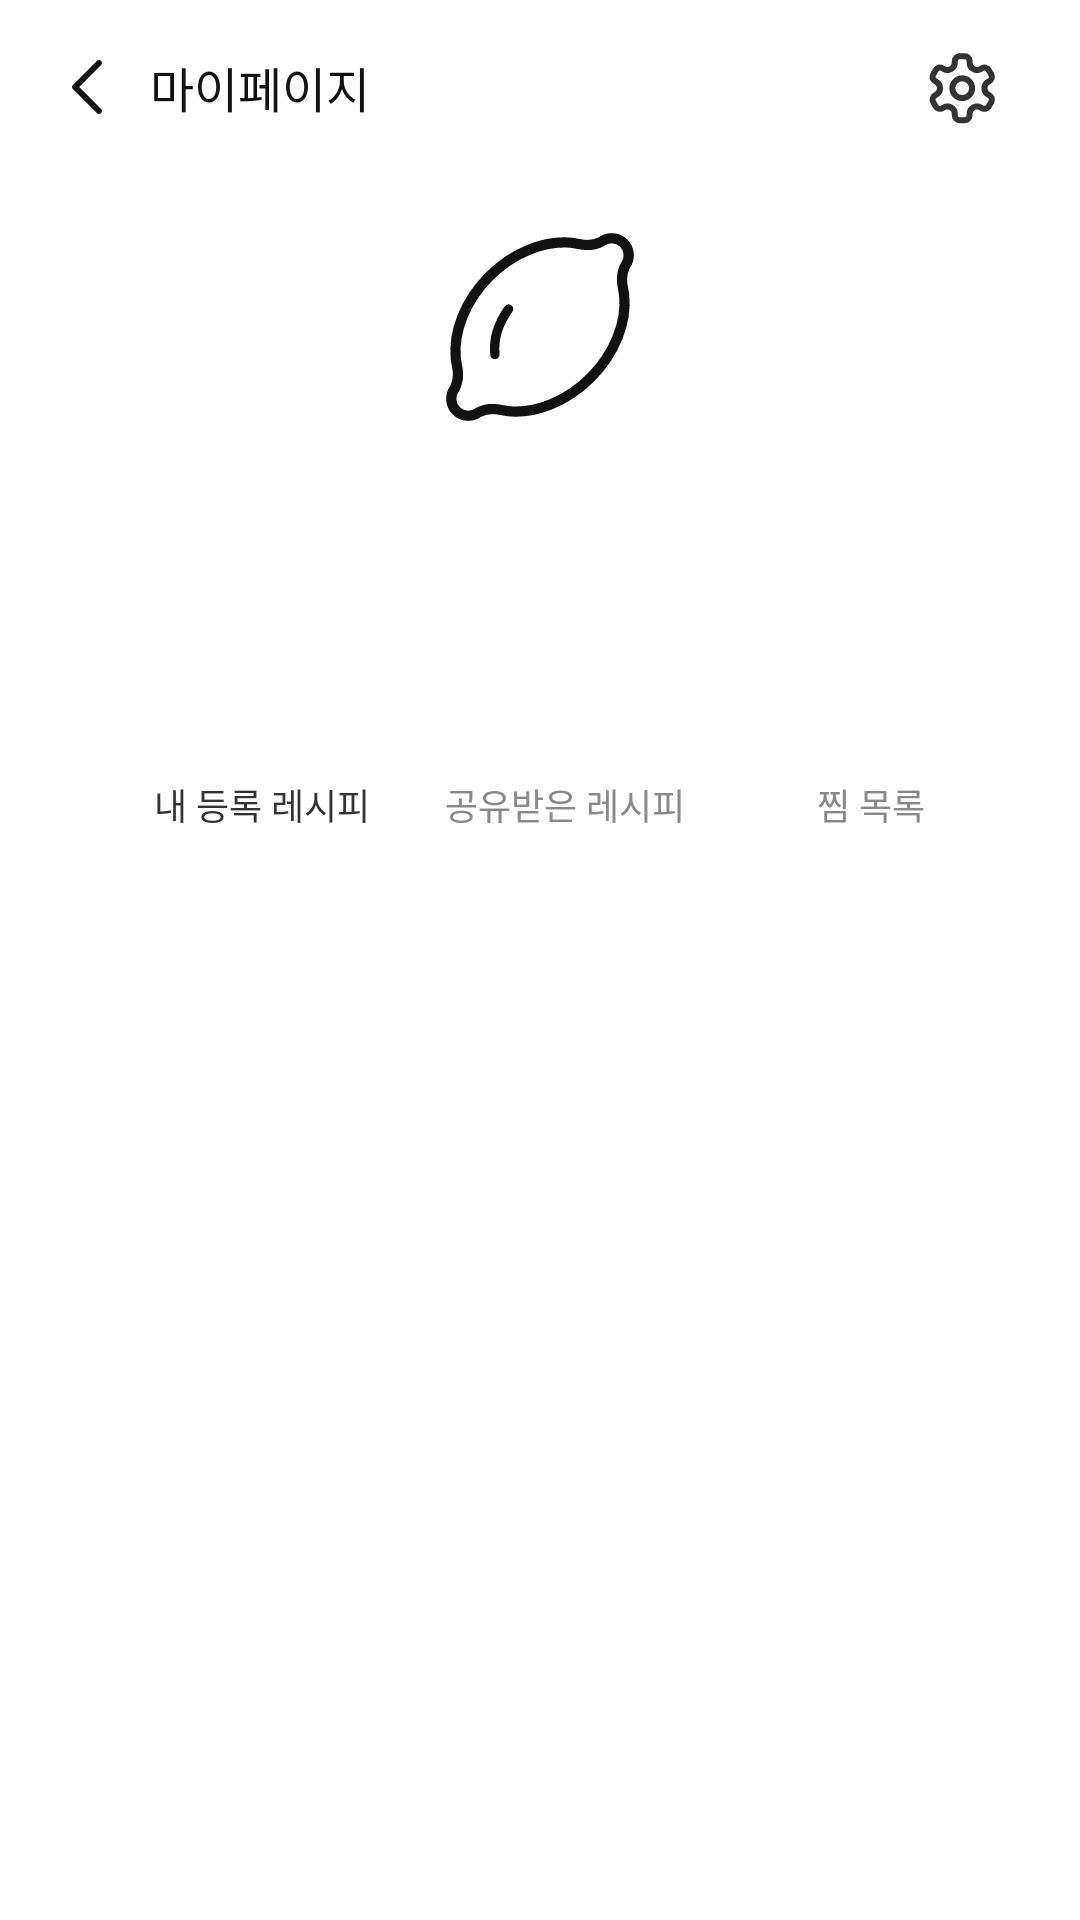

Screen size 1080×1920. Icon name, then its center in pixels as (x=x, y=y):
back: (x=87, y=87)
lemon: (x=540, y=327)
setting: (x=962, y=88)
